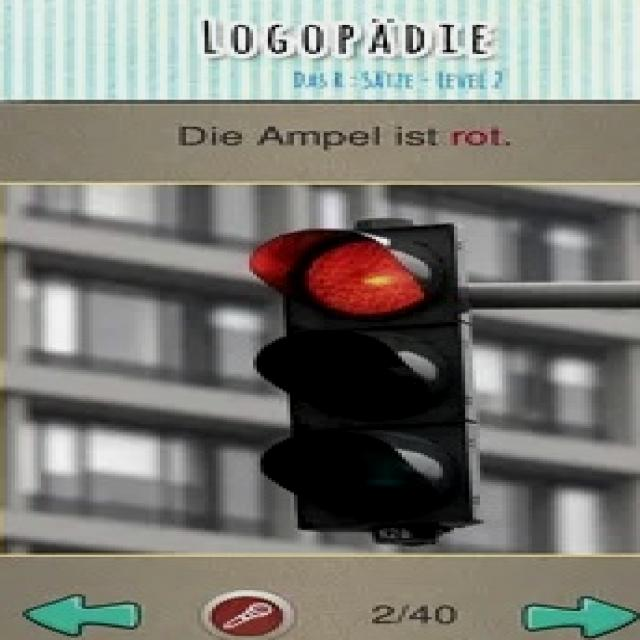kirmizi: (252, 219, 475, 543)
